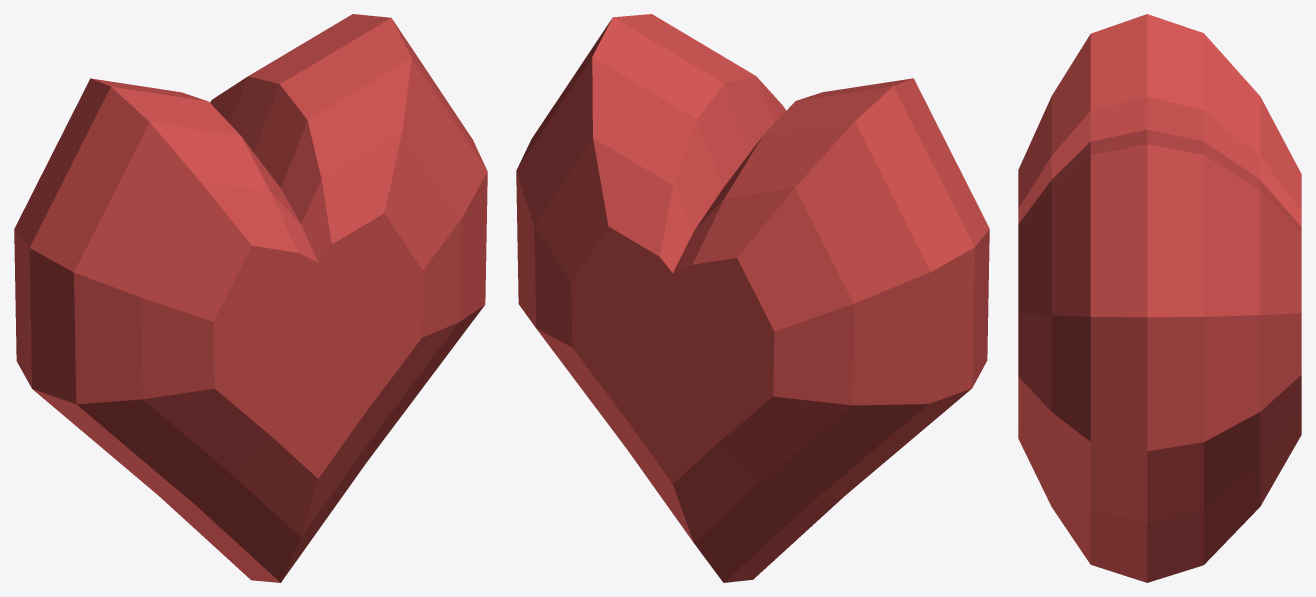
Rendered from CoracaoPowerUp.fbx.
The picture shows the model from 3 angles, left to right: view 1: azimuth 30°, elevation 25°; view 2: azimuth 150°, elevation 25°; view 3: azimuth 270°, elevation 25°; orthographic projection. The views are drawn at different scales.
Parts seen in each view (by area): view 1: Cube; view 2: Cube; view 3: Cube.
Part boxes in pixels (<box>): Cube: <box>14,14,487,582</box>; Cube: <box>516,14,989,582</box>; Cube: <box>1018,14,1301,582</box>.
Bounding box in the file's own units: 207 × 235 × 120.
